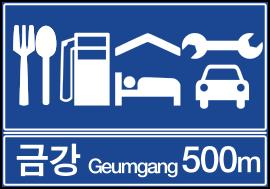Petrol Pump- Gas Station: (59, 16, 114, 116)
